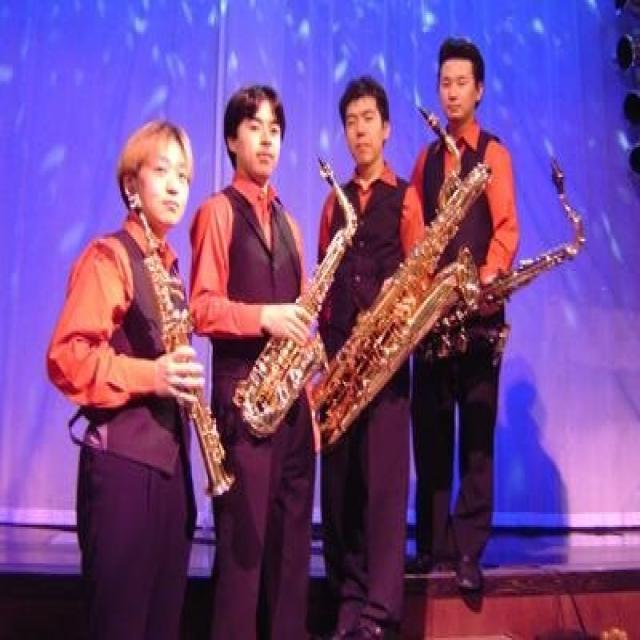saxophone: (314, 97, 491, 449), (415, 161, 588, 368), (236, 156, 361, 441)
